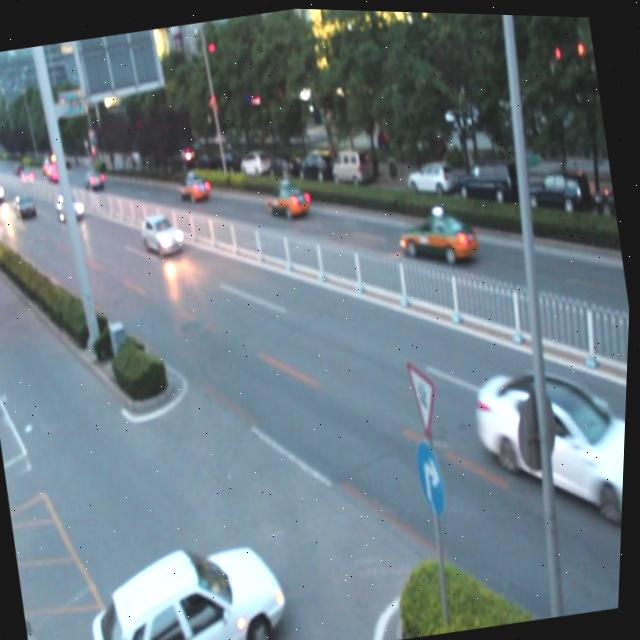car: (471, 340, 630, 542), (82, 525, 297, 640), (397, 201, 480, 268), (140, 208, 188, 258), (265, 179, 312, 220), (179, 170, 212, 201), (56, 190, 86, 221)
